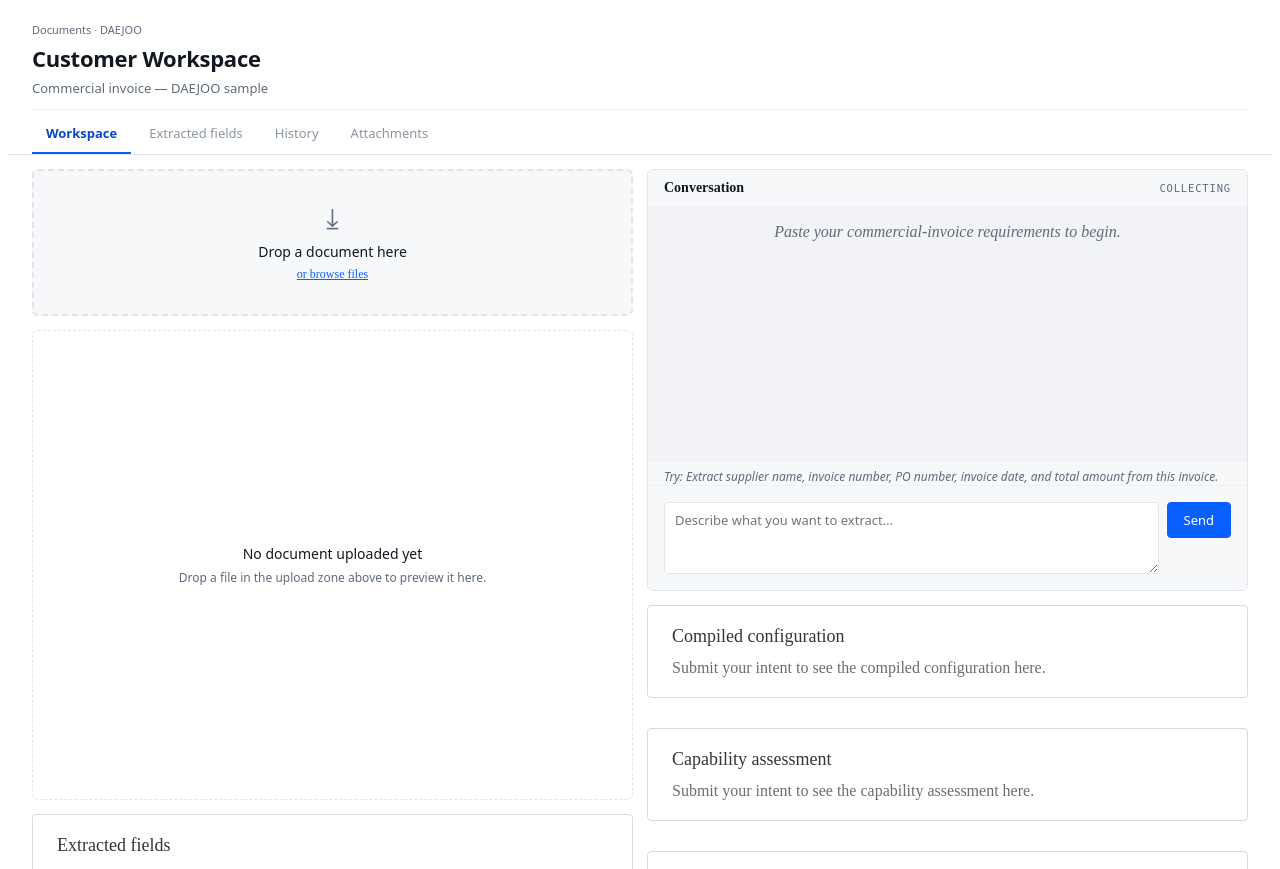
F-11 chat-wiring · Cycle 2 acceptance #3 (capability_class_question surfaces consent affordance) › a /api/compile decision action='capability_class_question' appends a notify_team_question bubble and renders consent buttons
This screenshot has width=1280, height=869.
Step 1. Type "can you link this to S/4 HANA?" into the text box with test id "customer-chat-panel-input" → (911, 538), box x1=664 y1=502 x2=1158 y2=574
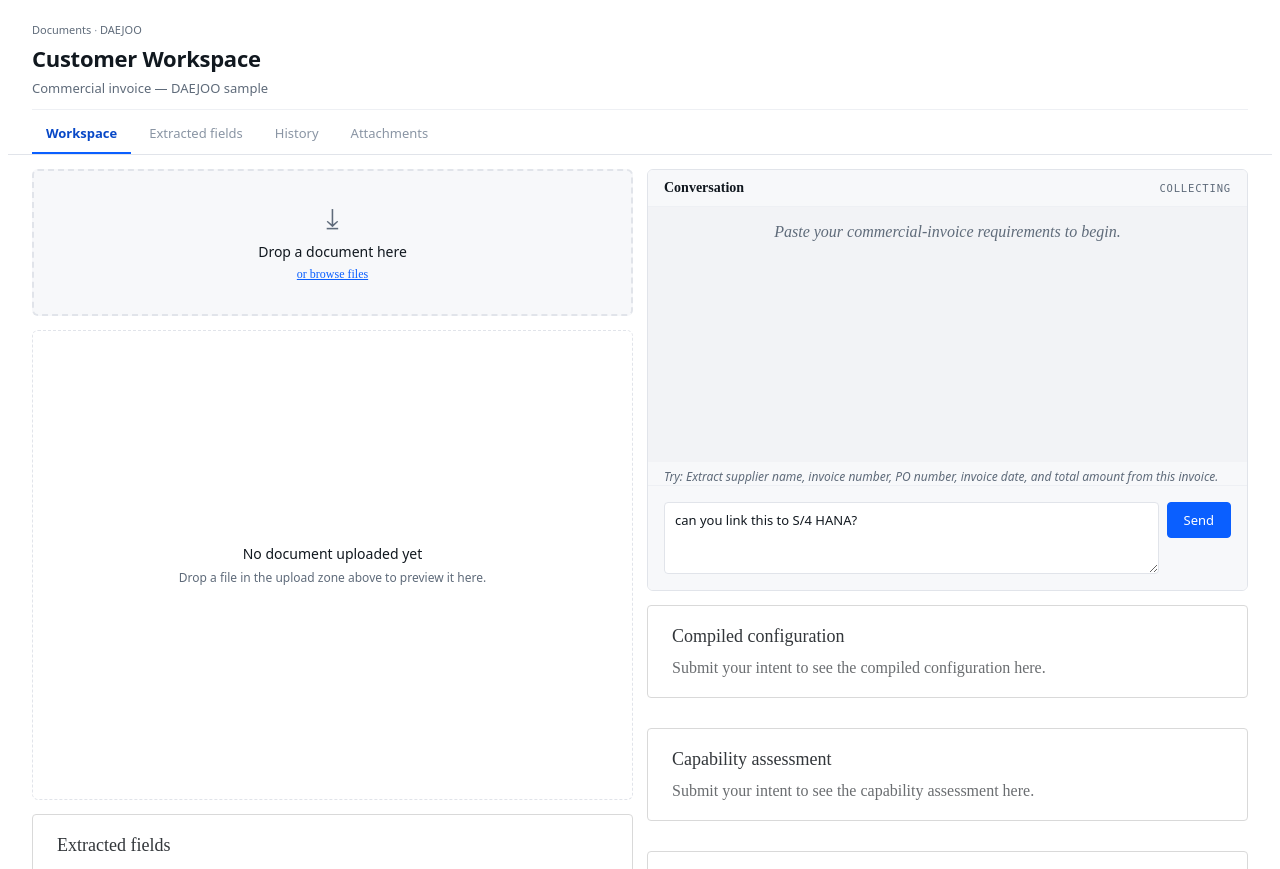
Step 2. Click the button with test id "customer-chat-panel-submit" → (1199, 520), box x1=1166 y1=502 x2=1231 y2=538
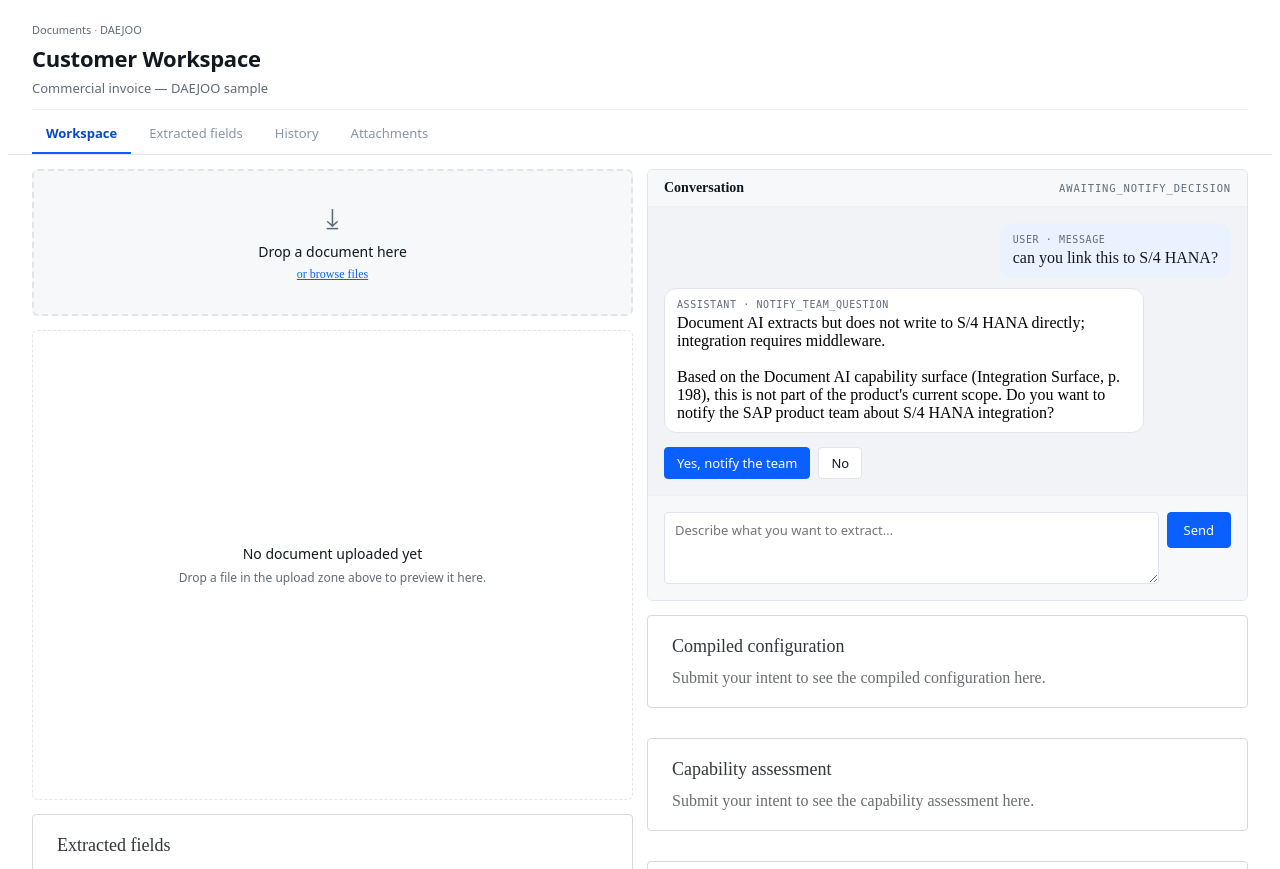
Expected: the text with test id "customer-chat-panel-status" reads "awaiting_notify_decision", x1=1059 y1=182 x2=1231 y2=194
Expected: the button with test id "customer-chat-consent-yes" is shown, x1=664 y1=447 x2=810 y2=479
Expected: the button with test id "customer-chat-consent-no" is shown, x1=818 y1=447 x2=862 y2=479
